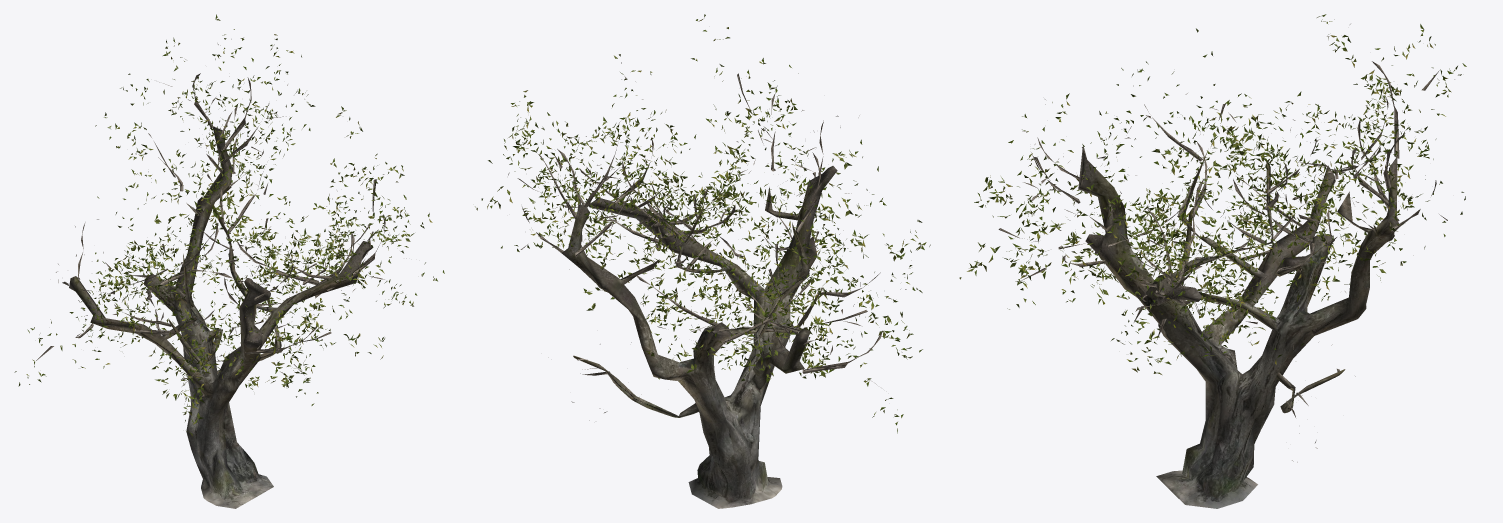
File: tree2.glb
The picture shows the model from 3 angles, left to right: view 1: azimuth 30°, elevation 25°; view 2: azimuth 150°, elevation 25°; view 3: azimuth 270°, elevation 25°; orthographic projection. The views are drawn at different scales.
Visible parts, largest first — view 1: island_tree_01_LOD0; view 2: island_tree_01_LOD0; view 3: island_tree_01_LOD0.
Boxes of the visible parts, box(x1,y1,x2,y2) form: island_tree_01_LOD0: box(14, 14, 444, 508); island_tree_01_LOD0: box(475, 14, 930, 508); island_tree_01_LOD0: box(959, 14, 1466, 508).
Size of the model in its own units: 4.69 by 4.91 by 4.69.
3 materials, 3 textured.
